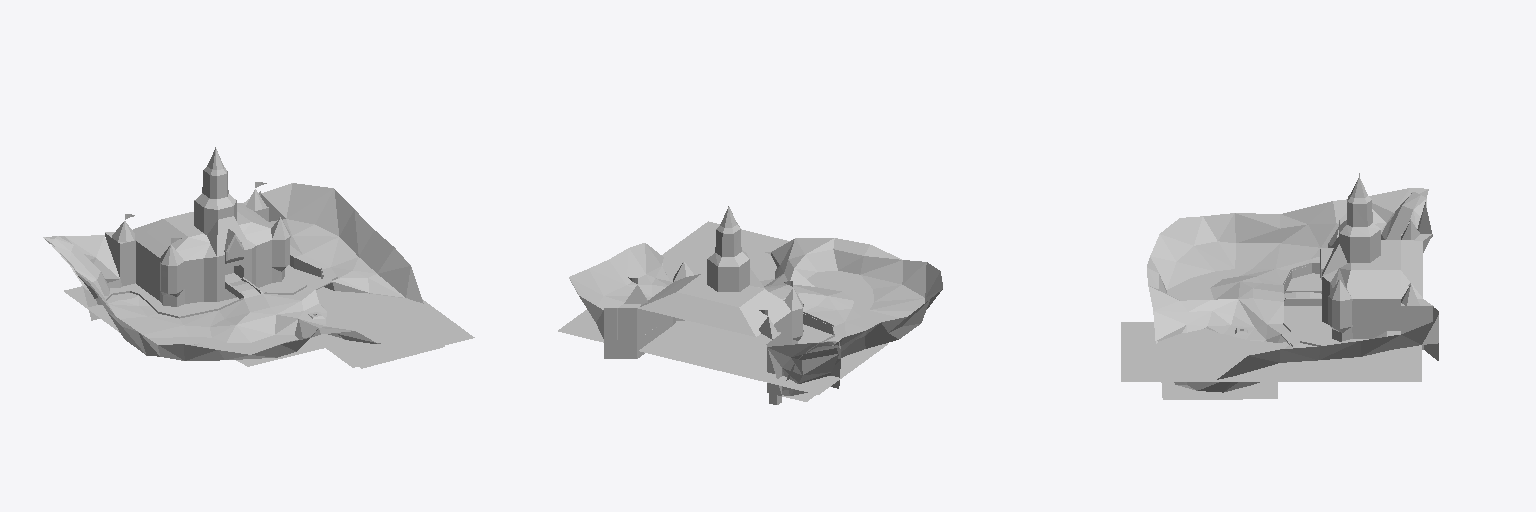
Rendered from princess peaches castle (outside).obj.
3 views of the same model, side by side, from view 1: azimuth 30°, elevation 25°; view 2: azimuth 150°, elevation 25°; view 3: azimuth 270°, elevation 25° (orthographic).
Bounding box in the file's own units: 16.44 × 9.96 × 16.22.